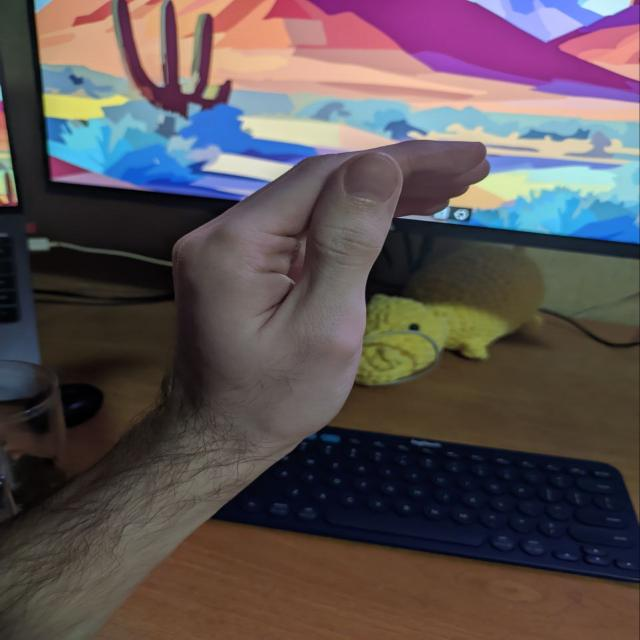f: (144, 132, 517, 465)
